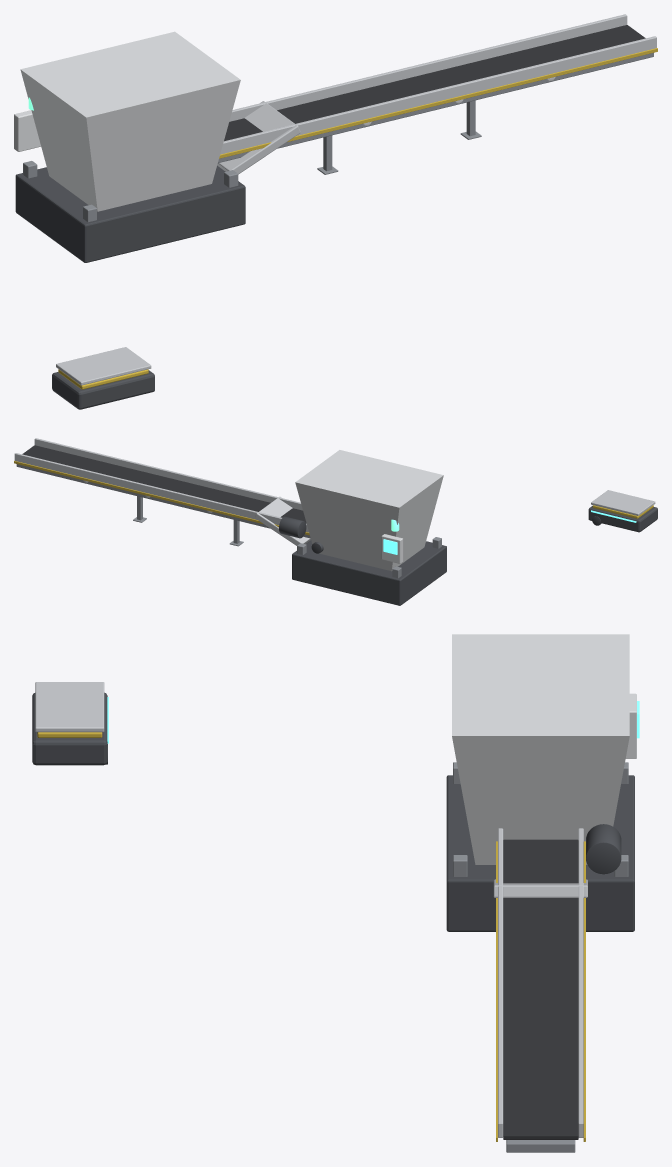
The model's file is cell_0_1_lod0.glb.
3 views of the same model, one above another, from view 1: azimuth 30°, elevation 25°; view 2: azimuth 150°, elevation 25°; view 3: azimuth 270°, elevation 25° (orthographic). The views are drawn at different scales.
Parts seen in each view (by area): view 1: P_EQ_feeder_01__hopper, P_EQ_feeder_01__base, P_EQ_conveyor_a__belt, P_EQ_conveyor_a__rail_L, P_EQ_conveyor_a__rail_R, P_EQ_agv_01__body, P_EQ_agv_01__lift, P_EQ_conveyor_a__guard_L, P_EQ_conveyor_a__frame, P_EQ_feeder_01__chute, P_EQ_feeder_01__panel; view 2: P_EQ_feeder_01__hopper, P_EQ_feeder_01__base, P_EQ_conveyor_a__belt, P_EQ_conveyor_a__rail_R, P_EQ_conveyor_a__rail_L, P_EQ_agv_01__lift, P_EQ_agv_01__body, P_EQ_conveyor_a__frame, P_EQ_conveyor_a__guard_R, P_EQ_feeder_01__chute, P_EQ_feeder_01__motor, P_EQ_feeder_01__panel; view 3: P_EQ_feeder_01__hopper, P_EQ_conveyor_a__belt, P_EQ_feeder_01__base, P_EQ_agv_01__lift, P_EQ_agv_01__body, P_EQ_conveyor_a__rail_R, P_EQ_conveyor_a__rail_L, P_EQ_feeder_01__motor, P_EQ_feeder_01__chute, P_EQ_conveyor_a__frame, P_EQ_conveyor_a__guard_R.
Boxes of the visible parts, x1,y1,x2,y2 form: P_EQ_feeder_01__hopper: [20, 31, 240, 211]; P_EQ_feeder_01__base: [15, 165, 245, 262]; P_EQ_conveyor_a__belt: [224, 25, 645, 141]; P_EQ_conveyor_a__rail_L: [220, 36, 656, 154]; P_EQ_conveyor_a__rail_R: [229, 14, 627, 121]; P_EQ_agv_01__body: [52, 370, 154, 409]; P_EQ_agv_01__lift: [56, 347, 151, 385]; P_EQ_conveyor_a__guard_L: [219, 48, 657, 158]; P_EQ_conveyor_a__frame: [218, 53, 653, 162]; P_EQ_feeder_01__chute: [217, 101, 300, 174]; P_EQ_feeder_01__panel: [14, 110, 40, 151]; P_EQ_feeder_01__hopper: [295, 450, 443, 571]; P_EQ_feeder_01__base: [292, 540, 446, 605]; P_EQ_conveyor_a__belt: [22, 445, 306, 523]; P_EQ_conveyor_a__rail_R: [14, 453, 308, 532]; P_EQ_conveyor_a__rail_L: [34, 438, 302, 510]; P_EQ_agv_01__lift: [591, 490, 655, 515]; P_EQ_agv_01__body: [588, 505, 657, 532]; P_EQ_conveyor_a__frame: [16, 464, 310, 538]; P_EQ_conveyor_a__guard_R: [14, 461, 309, 535]; P_EQ_feeder_01__chute: [255, 496, 310, 545]; P_EQ_feeder_01__motor: [279, 516, 306, 538]; P_EQ_feeder_01__panel: [381, 534, 403, 563]; P_EQ_feeder_01__hopper: [452, 634, 629, 864]; P_EQ_conveyor_a__belt: [503, 839, 578, 1139]; P_EQ_feeder_01__base: [446, 775, 634, 931]; P_EQ_agv_01__lift: [35, 682, 104, 732]; P_EQ_agv_01__body: [32, 692, 107, 765]; P_EQ_conveyor_a__rail_R: [578, 828, 583, 1137]; P_EQ_conveyor_a__rail_L: [498, 828, 503, 1137]; P_EQ_feeder_01__motor: [586, 824, 621, 874]; P_EQ_feeder_01__chute: [493, 879, 587, 897]; P_EQ_conveyor_a__frame: [506, 1140, 575, 1152]; P_EQ_conveyor_a__guard_R: [583, 841, 585, 1141].
Bounding box in the file's own units: 11.17 × 2.05 × 5.8.
